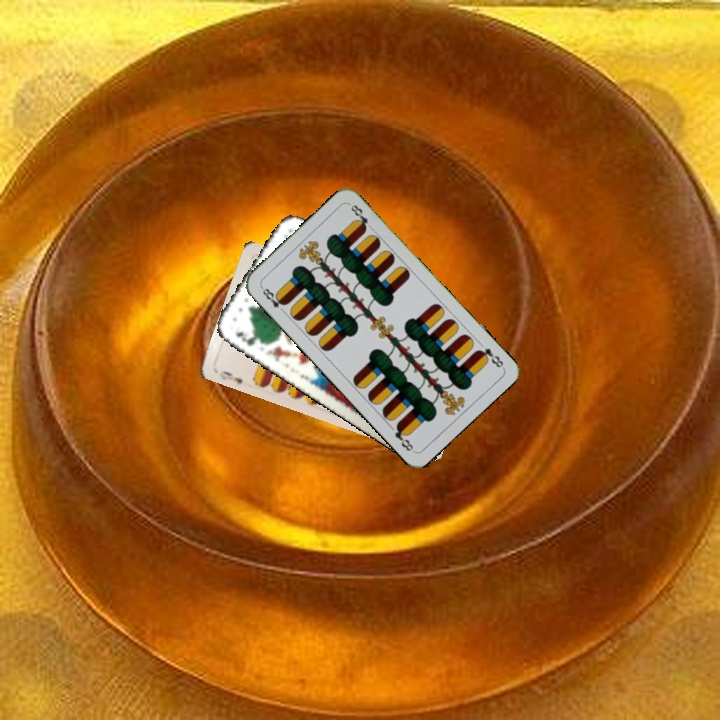E8: (257, 283, 289, 316), (472, 344, 506, 370)
E9: (216, 367, 245, 387)
GK: (232, 328, 266, 349)
